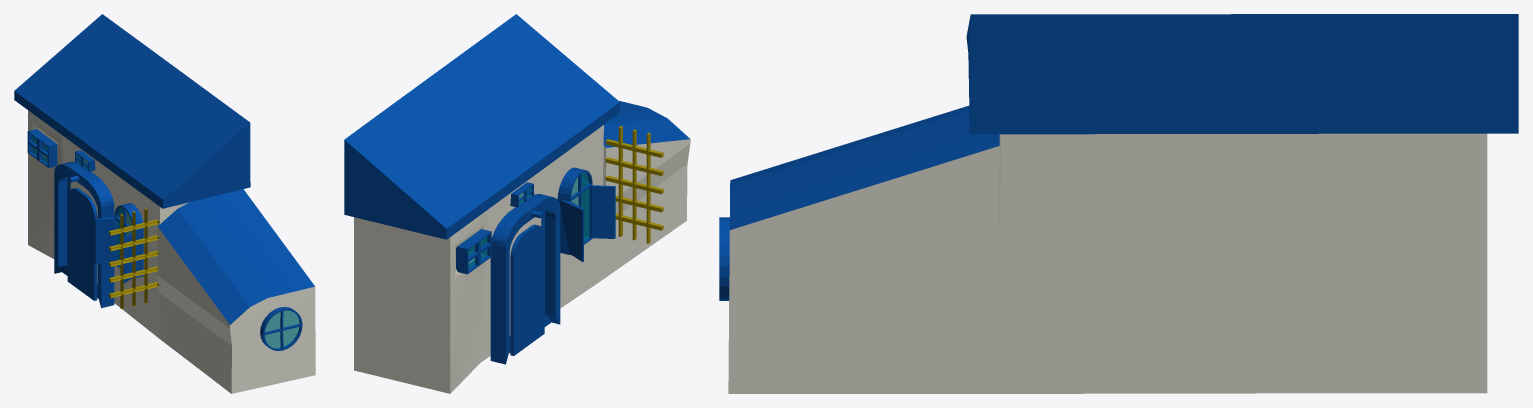
Rendered from fillerBuilding_02.fbx.
3 views of the same model, side by side, from view 1: azimuth 30°, elevation 25°; view 2: azimuth 150°, elevation 25°; view 3: azimuth 270°, elevation 25° (orthographic). The views are drawn at different scales.
Visible parts, largest first — view 1: polySurface114; view 2: polySurface114; view 3: polySurface114.
Boxes of the visible parts, x1=… form: polySurface114: x1=14, y1=14, x2=315, y2=393; polySurface114: x1=344, y1=14, x2=690, y2=393; polySurface114: x1=719, y1=14, x2=1518, y2=393.
Bounding box in the file's own units: 2.6 × 3.83 × 7.29.
